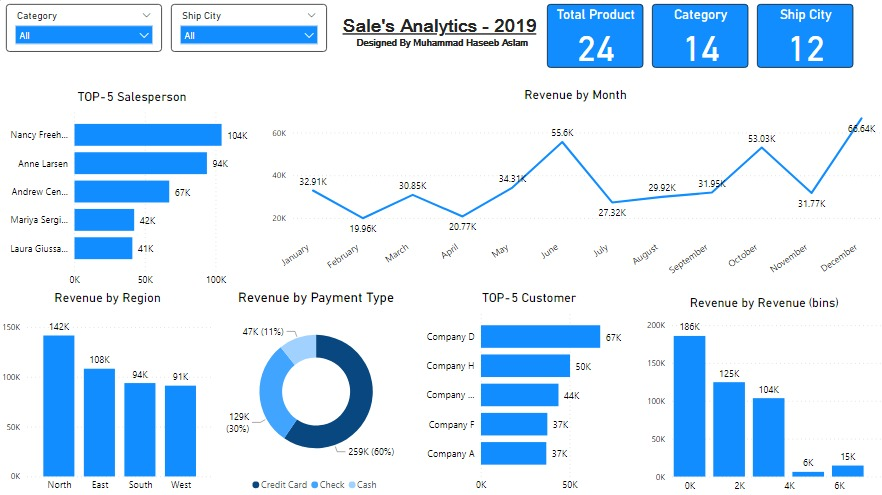

The page's visual inventory and layout, read from the dashboard file:
{"tool":"powerbi","page":{"name":"SalesAnalytics","canvas":[1280,720],"ordinal":0},"visuals":[{"type":"textbox","box":[489.1,14.4,303,75],"z":0},{"type":"donutChart","fields":{"Category":["orders.Payment Type"],"Y":["orders.Revenue"]},"box":[316,419.9,285.7,300.1],"z":1000},{"type":"lineChart","fields":{"Y":["orders.Revenue"],"Category":["orders.Order Date.Variation.Date Hierarchy.Month"]},"box":[386.7,127,893.1,292.9],"z":2000},{"type":"clusteredColumnChart","fields":{"Y":["orders.Revenue"],"Category":["orders.Region"]},"box":[0,419.9,316,300.1],"z":3000},{"type":"clusteredBarChart","title":"TOP-5 Customer","fields":{"Category":["orders.Customer Name"],"Y":["orders.Revenue"]},"box":[601.7,419.9,329,300.1],"z":4000},{"type":"clusteredBarChart","title":"TOP-5 Salesperson","fields":{"Category":["orders.Salesperson"],"Y":["orders.Revenue"]},"box":[0,129.9,386.7,292.9],"z":5000},{"type":"clusteredColumnChart","fields":{"Y":["orders.Revenue"],"Category":["orders.Revenue (bins)"]},"box":[930.7,427.1,349.2,292.9],"z":6000},{"type":"slicer","fields":{"Values":["orders.Category"]},"box":[11.5,7.2,225.1,69.3],"z":7000},{"type":"slicer","fields":{"Values":["orders.Ship City"]},"box":[249.6,7.2,225.1,69.3],"z":8000},{"type":"card","title":"Total Product","fields":{"Values":["orders.Product Name"]},"box":[792.1,7.2,138.5,92.3],"z":9000},{"type":"card","title":"Category","fields":{"Values":["orders.Category"]},"box":[943.6,7.2,138.5,92.3],"z":10000},{"type":"card","title":"Ship City","fields":{"Values":["orders.Ship City"]},"box":[1095.2,7.2,138.5,92.3],"z":11000}]}

Visuals, with their boxes in screenshot pixels (x1, y1, x2, y2), scaled from the page's 1280x720 canvas onto the 882x495 screenshot:
textbox: 337, 10, 546, 61
donutChart - orders.Payment Type x orders.Revenue: 218, 289, 415, 494
lineChart - orders.Revenue x orders.Order Date.Variation.Date Hierarchy.Month: 266, 87, 881, 289
clusteredColumnChart - orders.Revenue x orders.Region: 0, 289, 218, 494
"TOP-5 Customer" clusteredBarChart: 415, 289, 641, 494
"TOP-5 Salesperson" clusteredBarChart: 0, 89, 266, 291
clusteredColumnChart - orders.Revenue x orders.Revenue (bins): 641, 294, 881, 494
slicer - orders.Category: 8, 5, 163, 53
slicer - orders.Ship City: 172, 5, 327, 53
"Total Product" card: 546, 5, 641, 68
"Category" card: 650, 5, 746, 68
"Ship City" card: 755, 5, 850, 68
